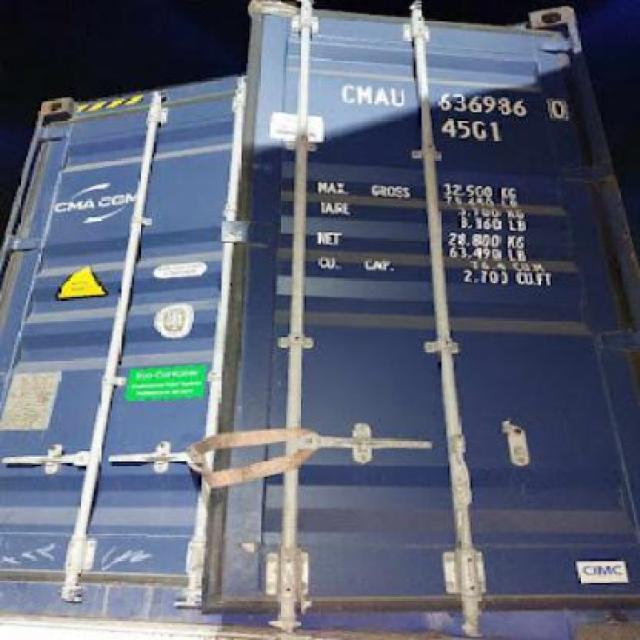ISO: (440, 118, 502, 142)
container_number: (341, 83, 569, 115)
